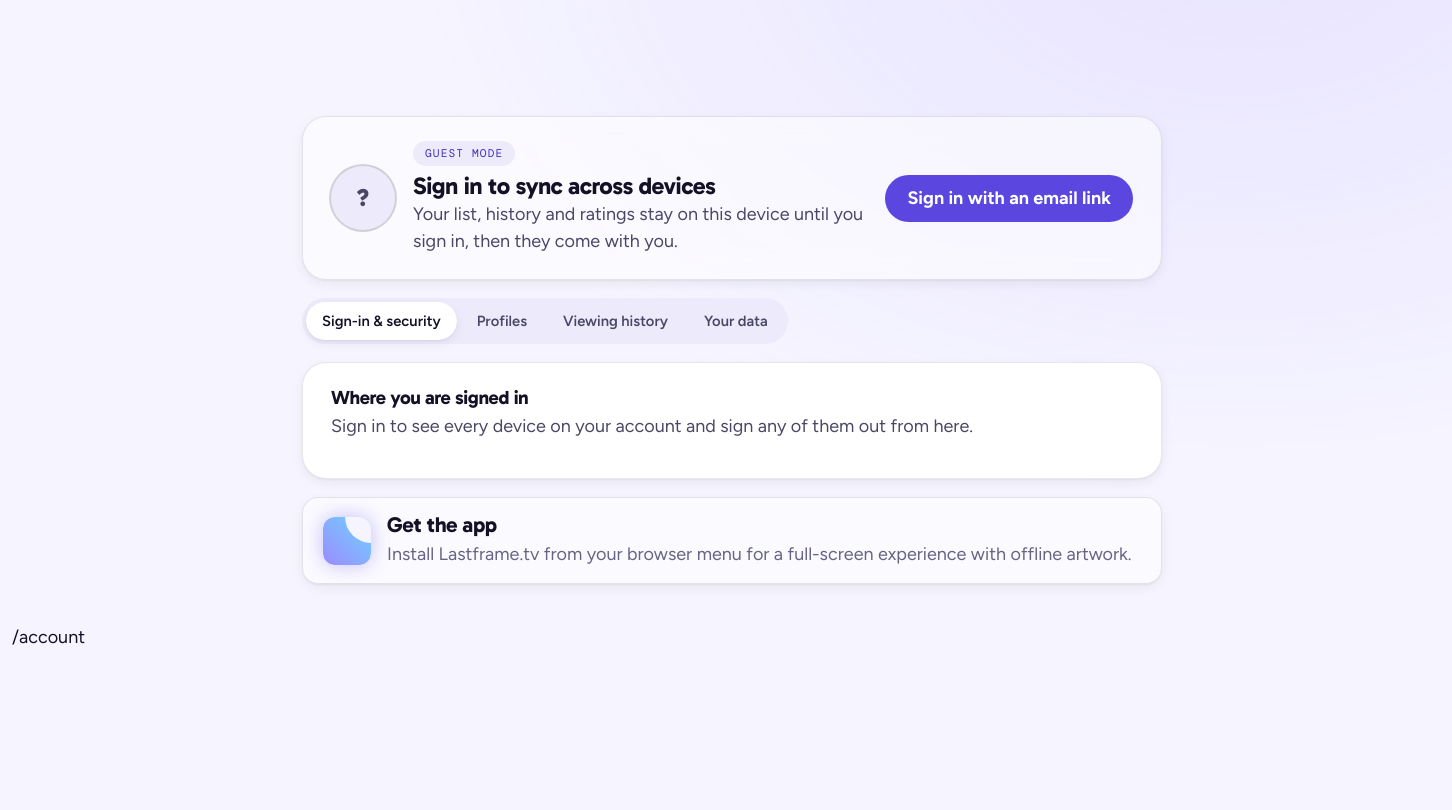
Scenario: AccountPage: guest › opens the security tab by default and switches tabs through the URL
Expected: the text "Guest mode" is shown, x1=413 y1=141 x2=515 y2=166
Click the tab "Your data" at (736, 321), box x1=704 y1=312 x2=768 y2=330
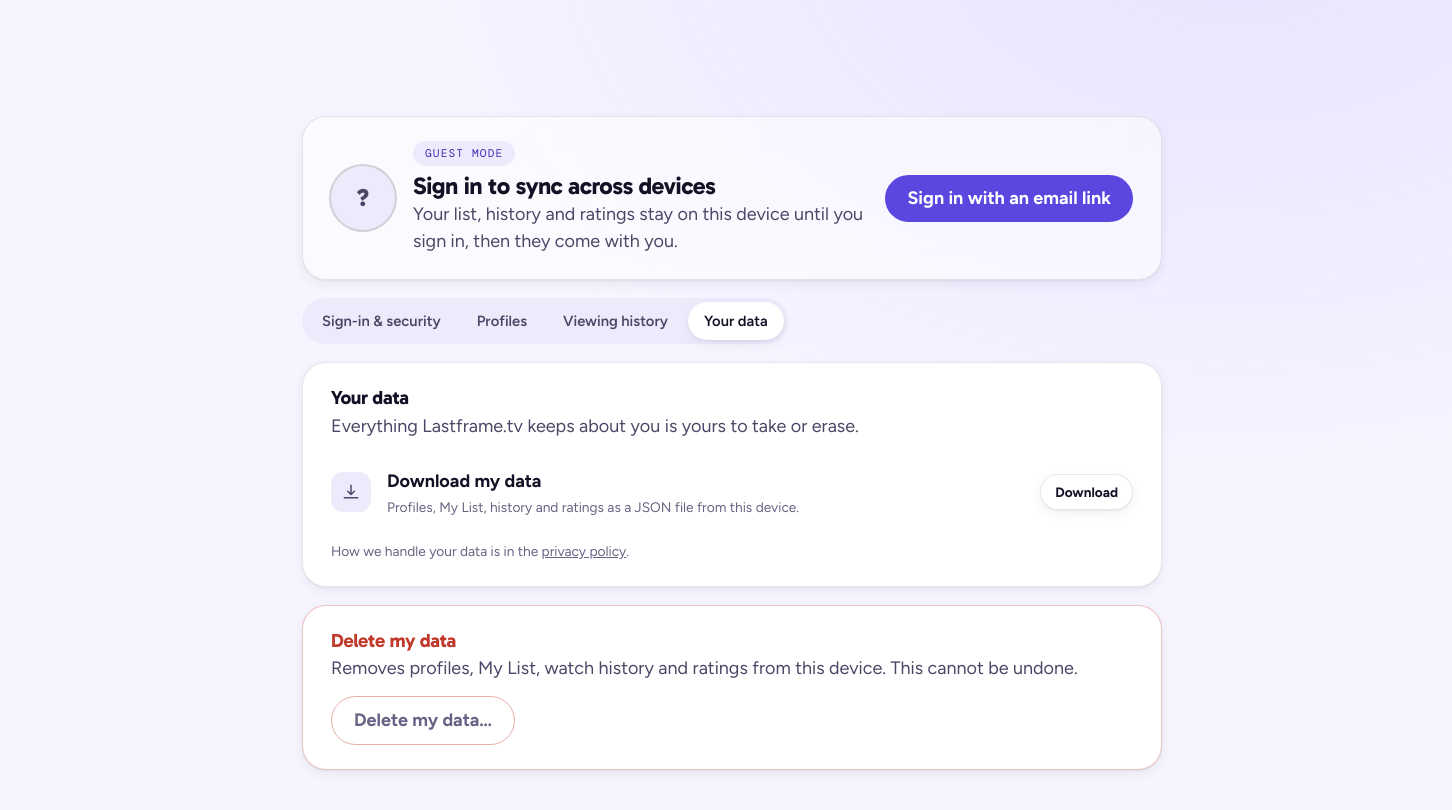
Expected: the button "Download" is shown, x1=1040 y1=474 x2=1133 y2=510
Click the tab "Sign-in & security" at (381, 321), box x1=322 y1=312 x2=441 y2=330
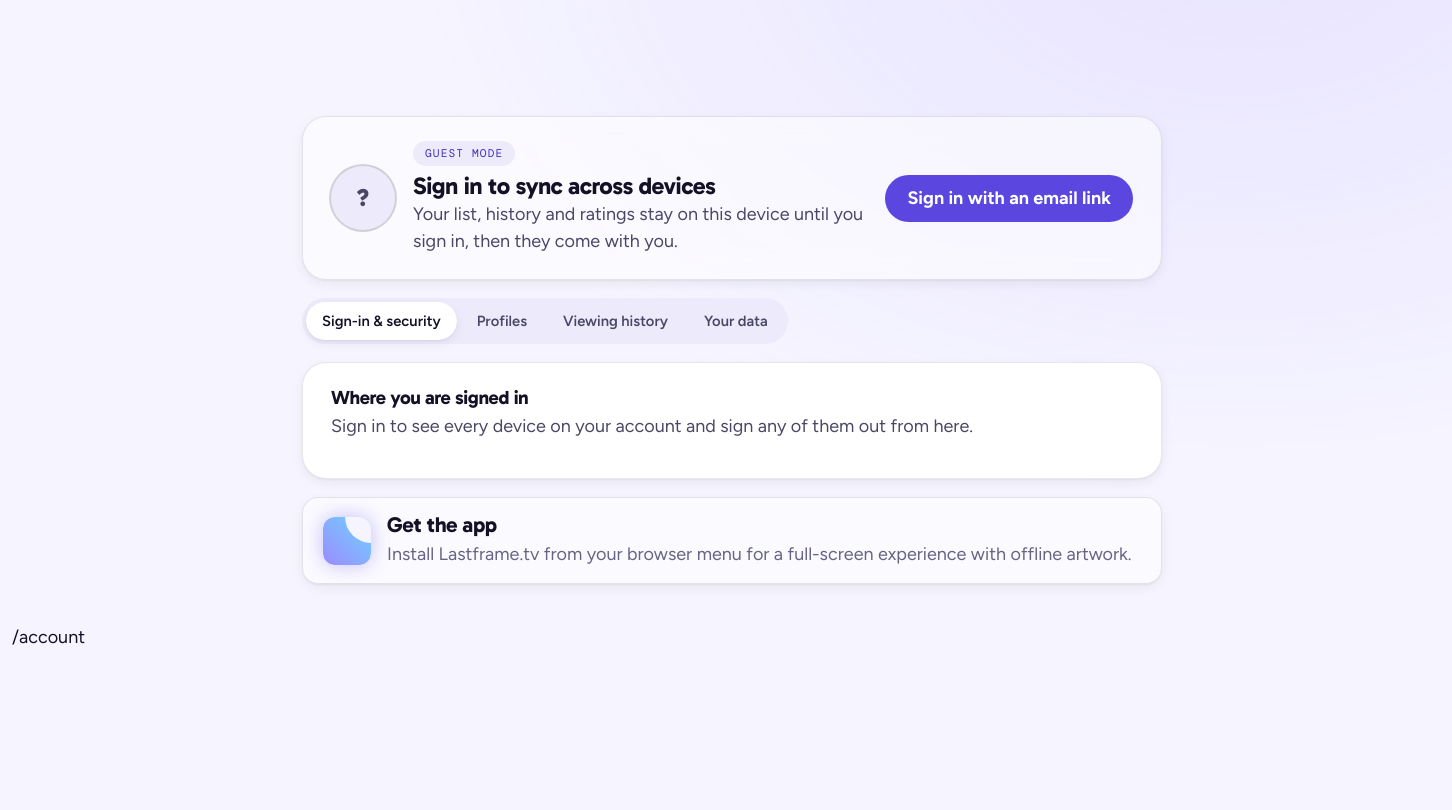
Expected: the text with test id "location" reads "/account", x1=12 y1=626 x2=85 y2=648
